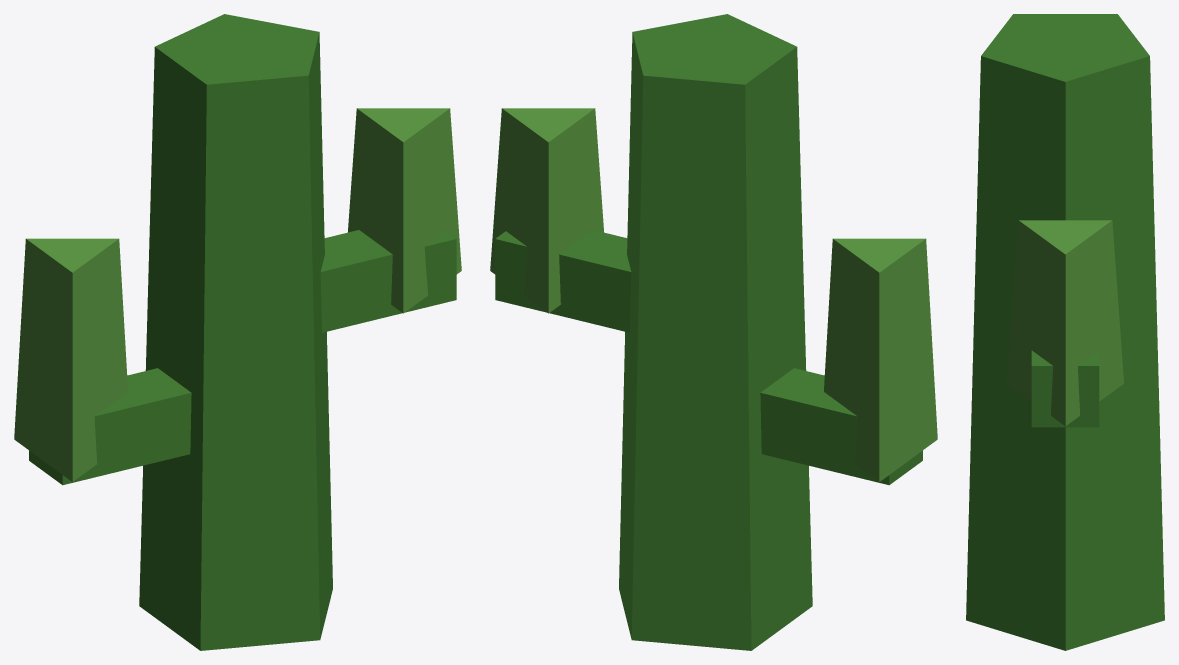
The model's file is cactus.glb.
3 views of the same model, side by side, from view 1: azimuth 30°, elevation 25°; view 2: azimuth 150°, elevation 25°; view 3: azimuth 270°, elevation 25° (orthographic).
Parts seen in each view (by area): view 1: column, right_arm, left_arm, left_elbow, right_elbow; view 2: column, right_arm, left_arm, left_elbow, right_elbow; view 3: column, left_arm, left_elbow.
Boxes of the visible parts, left/top/right/bottom form: column: left=139, top=14, right=332, bottom=650; right_arm: left=14, top=238, right=127, bottom=481; left_arm: left=348, top=108, right=461, bottom=313; left_elbow: left=320, top=230, right=456, bottom=332; right_elbow: left=29, top=368, right=191, bottom=485; column: left=619, top=14, right=812, bottom=650; right_arm: left=824, top=238, right=937, bottom=481; left_arm: left=490, top=108, right=603, bottom=313; left_elbow: left=495, top=230, right=631, bottom=332; right_elbow: left=760, top=368, right=922, bottom=485; column: left=966, top=14, right=1164, bottom=650; left_arm: left=1007, top=220, right=1123, bottom=426; left_elbow: left=1031, top=350, right=1099, bottom=427.
Size of the model in its own units: 0.172 by 0.22 by 0.0705.
